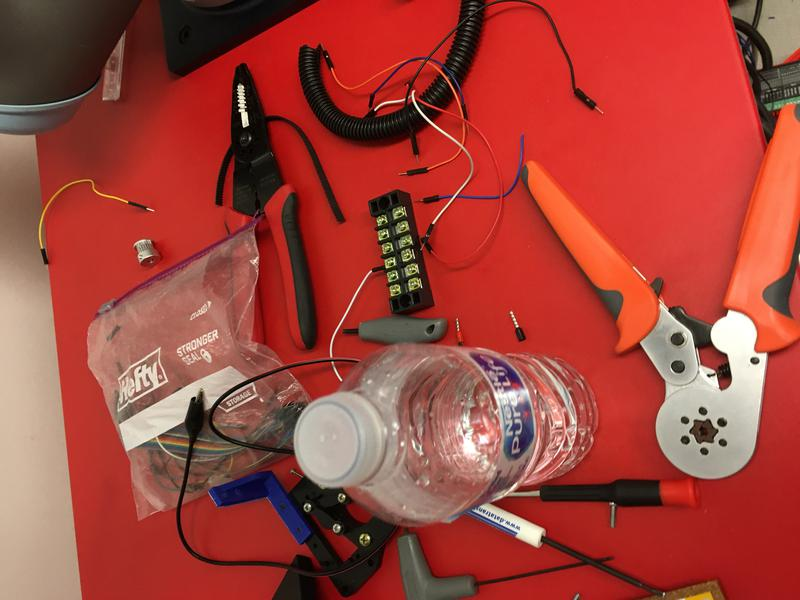bottle: (290, 341, 602, 527)
